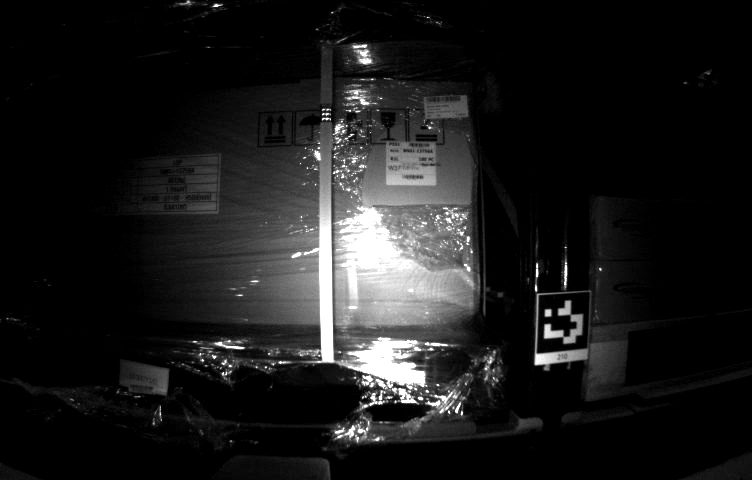True Barcode: (385, 140, 437, 185)
